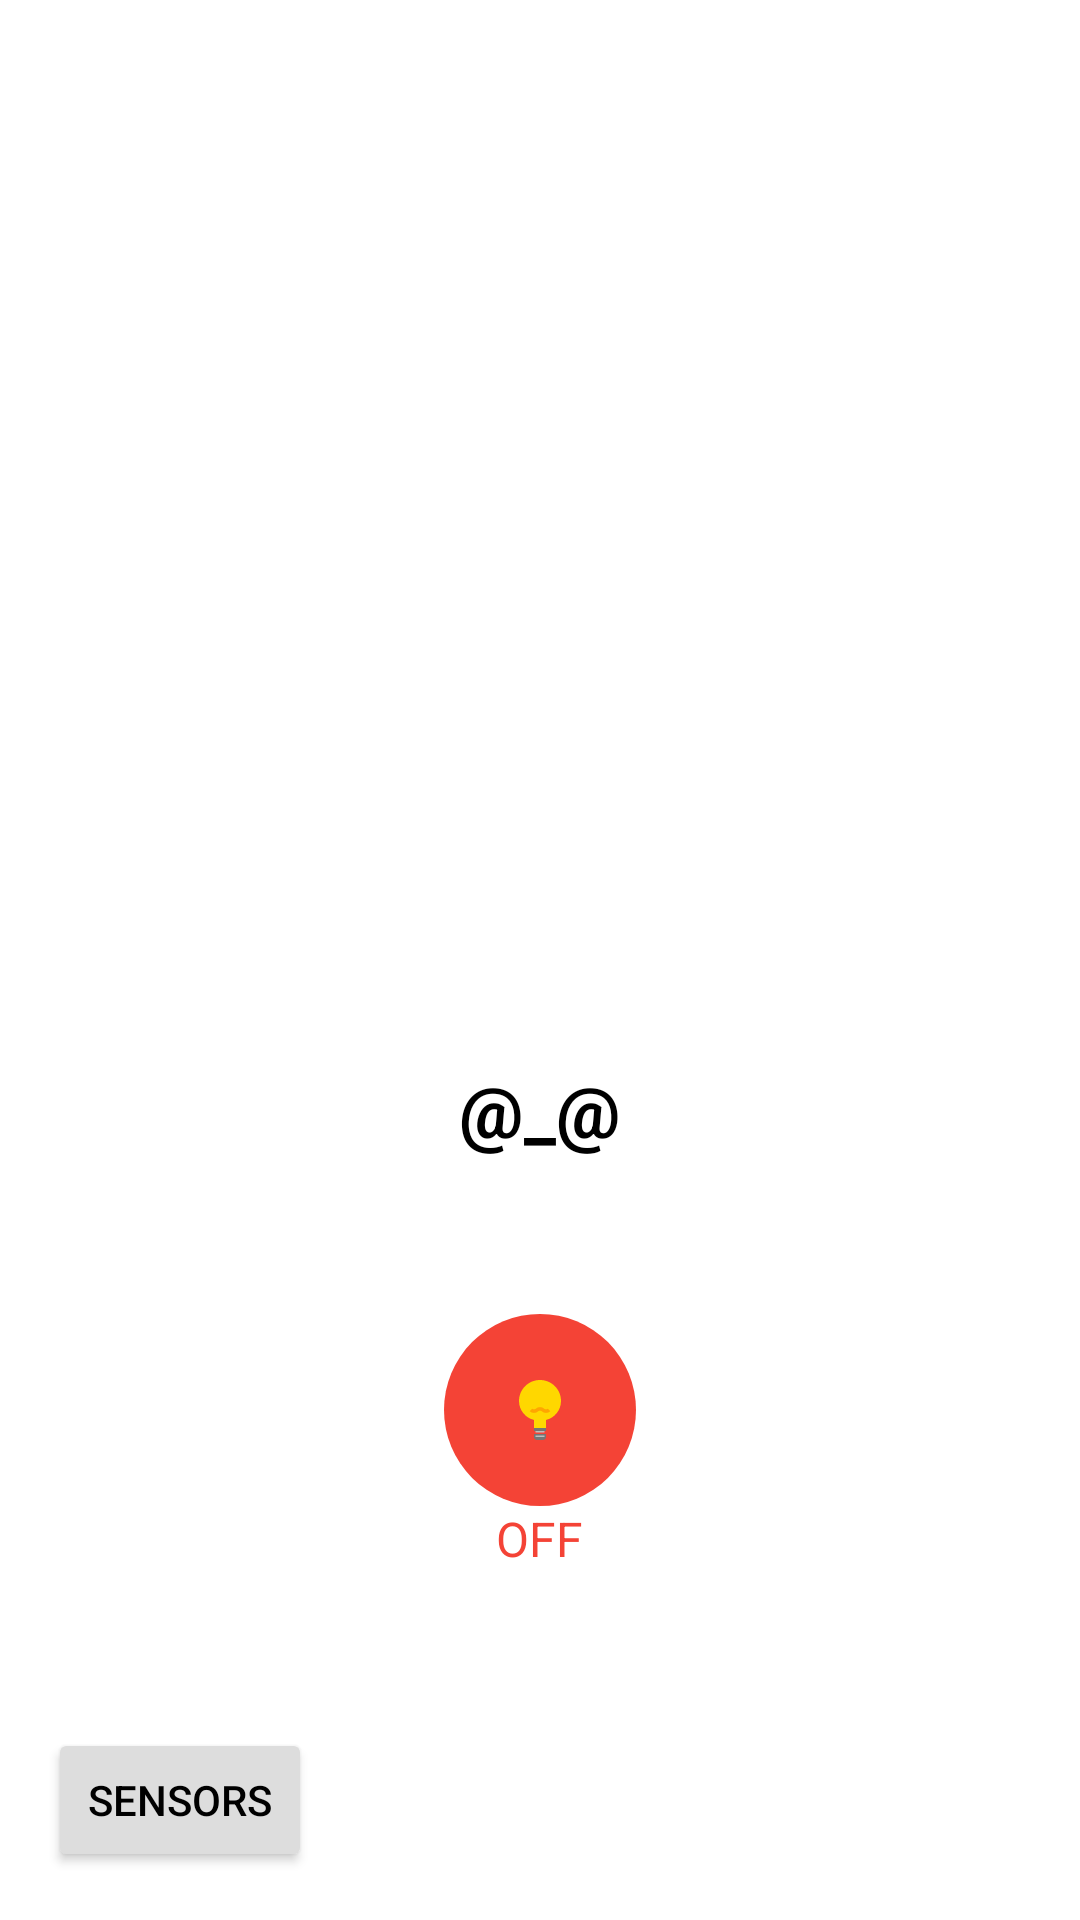

Icons on this 1080px×1920px Android screen, each with its box as [x1=x1, y1=y1, x2=x2, y2=y2]:
bulb: [x1=444, y1=1314, x2=636, y2=1506]
